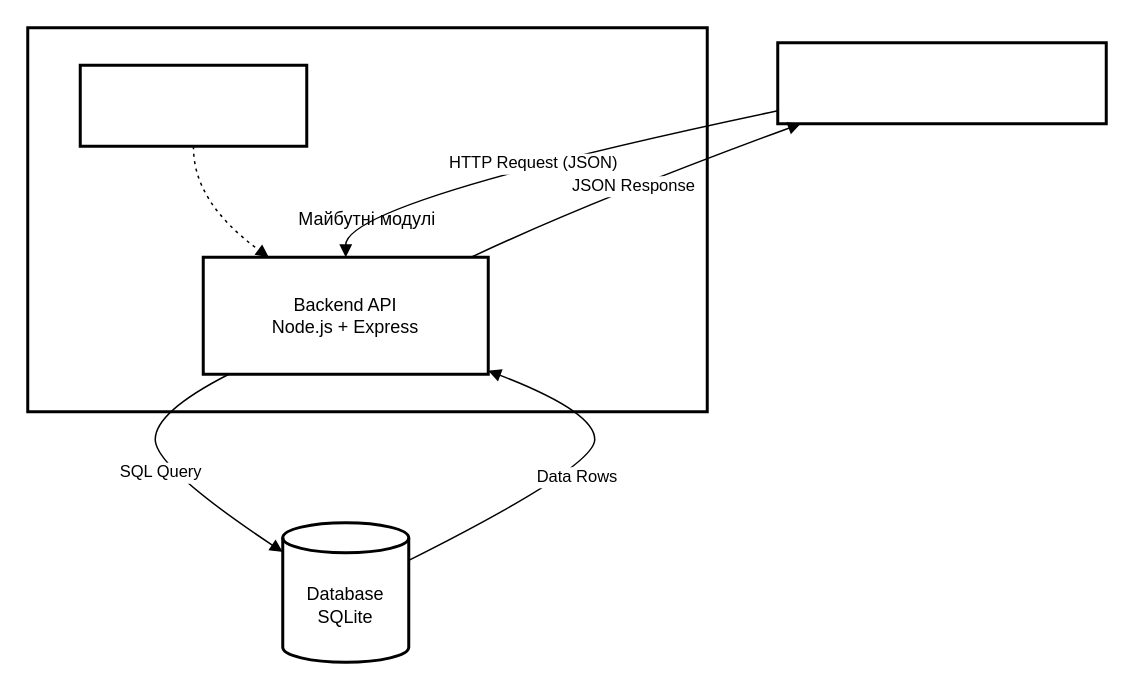
Some shapes in this 1133 by 689 pixel diagram are drawn without their labels. The shapes that lost their labels are listed below. From the top down, each one's centre as x and y in pixels, then its label:
the point at 941,82: Користувач / Браузер
the point at 193,105: Auth Service
